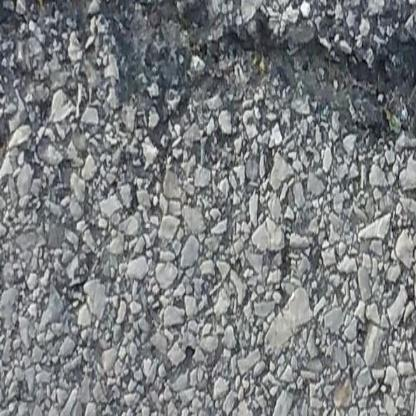Cracks: (59, 0, 416, 157), (0, 0, 33, 50)
